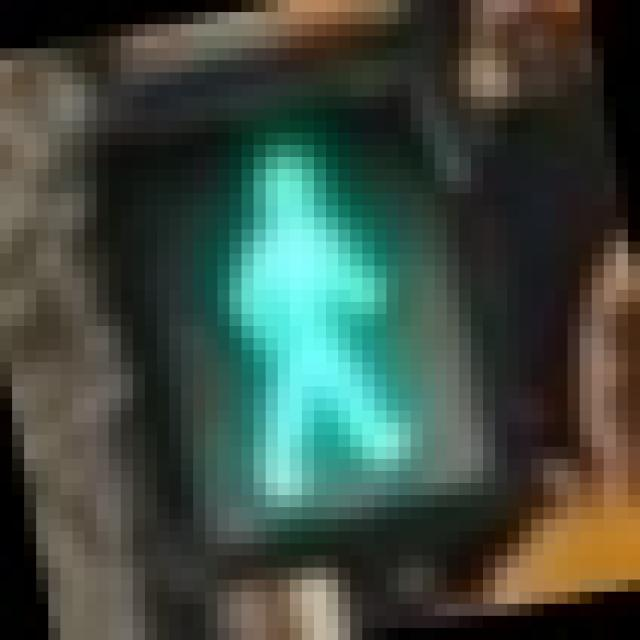green_light: (120, 61, 483, 532)
